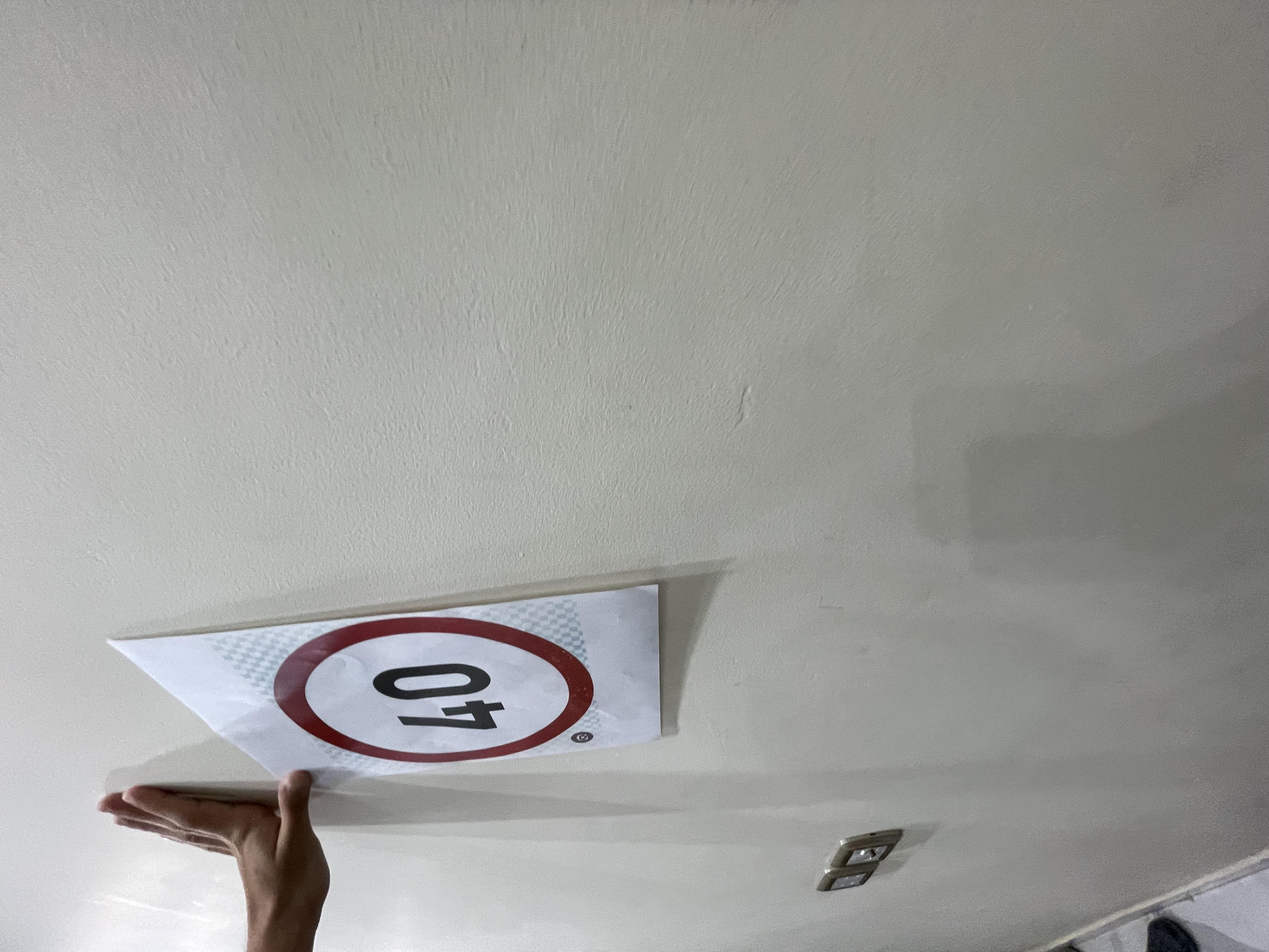40-Speed: (249, 218, 459, 441)
